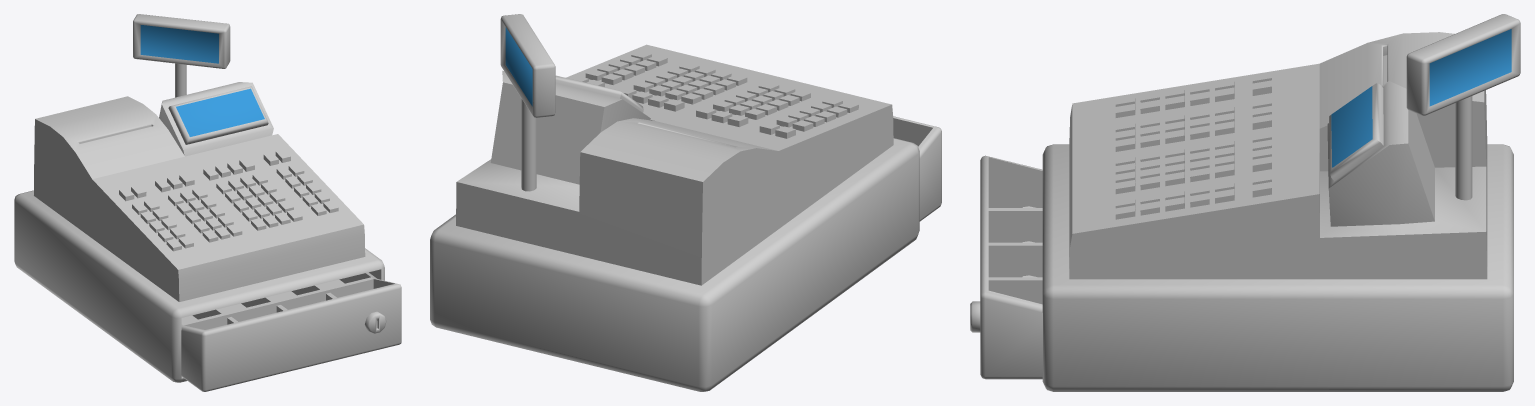
Rendered from Cash-Register.fbx.
The picture shows the model from 3 angles, left to right: view 1: azimuth 30°, elevation 25°; view 2: azimuth 150°, elevation 25°; view 3: azimuth 270°, elevation 25°; orthographic projection. The views are drawn at different scales.
Visible parts, largest first — view 1: Cash-Register, Cash-Register-2; view 2: Cash-Register, Cash-Register-2; view 3: Cash-Register, Cash-Register-2.
Boxes of the visible parts, left/top/right/bottom form: Cash-Register: left=14, top=14, right=384, bottom=382; Cash-Register-2: left=181, top=272, right=401, bottom=391; Cash-Register: left=430, top=14, right=919, bottom=391; Cash-Register-2: left=893, top=116, right=941, bottom=221; Cash-Register: left=1042, top=14, right=1520, bottom=391; Cash-Register-2: left=970, top=155, right=1042, bottom=379.
Size of the model in its own units: 0.3 by 0.2978 by 0.4671.
